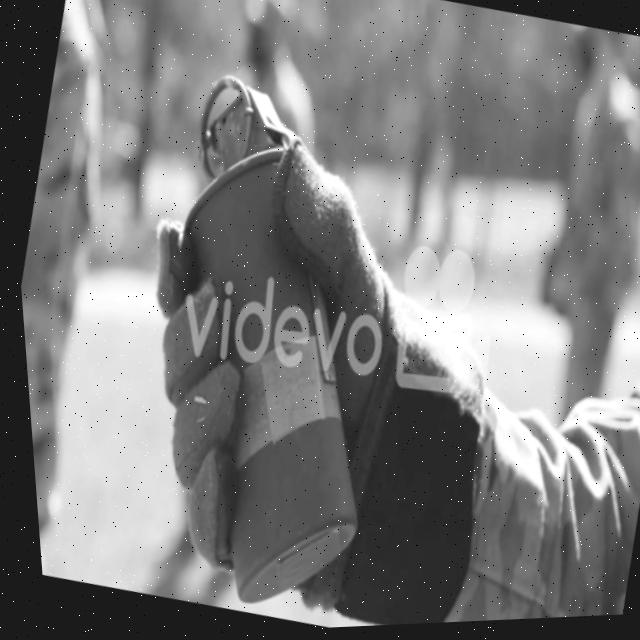grenade: (58, 38, 465, 638)
